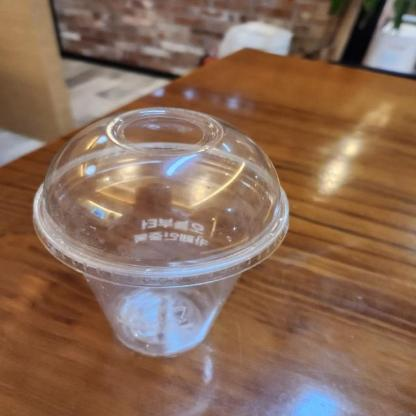Plastic Cup: (32, 104, 294, 288)
